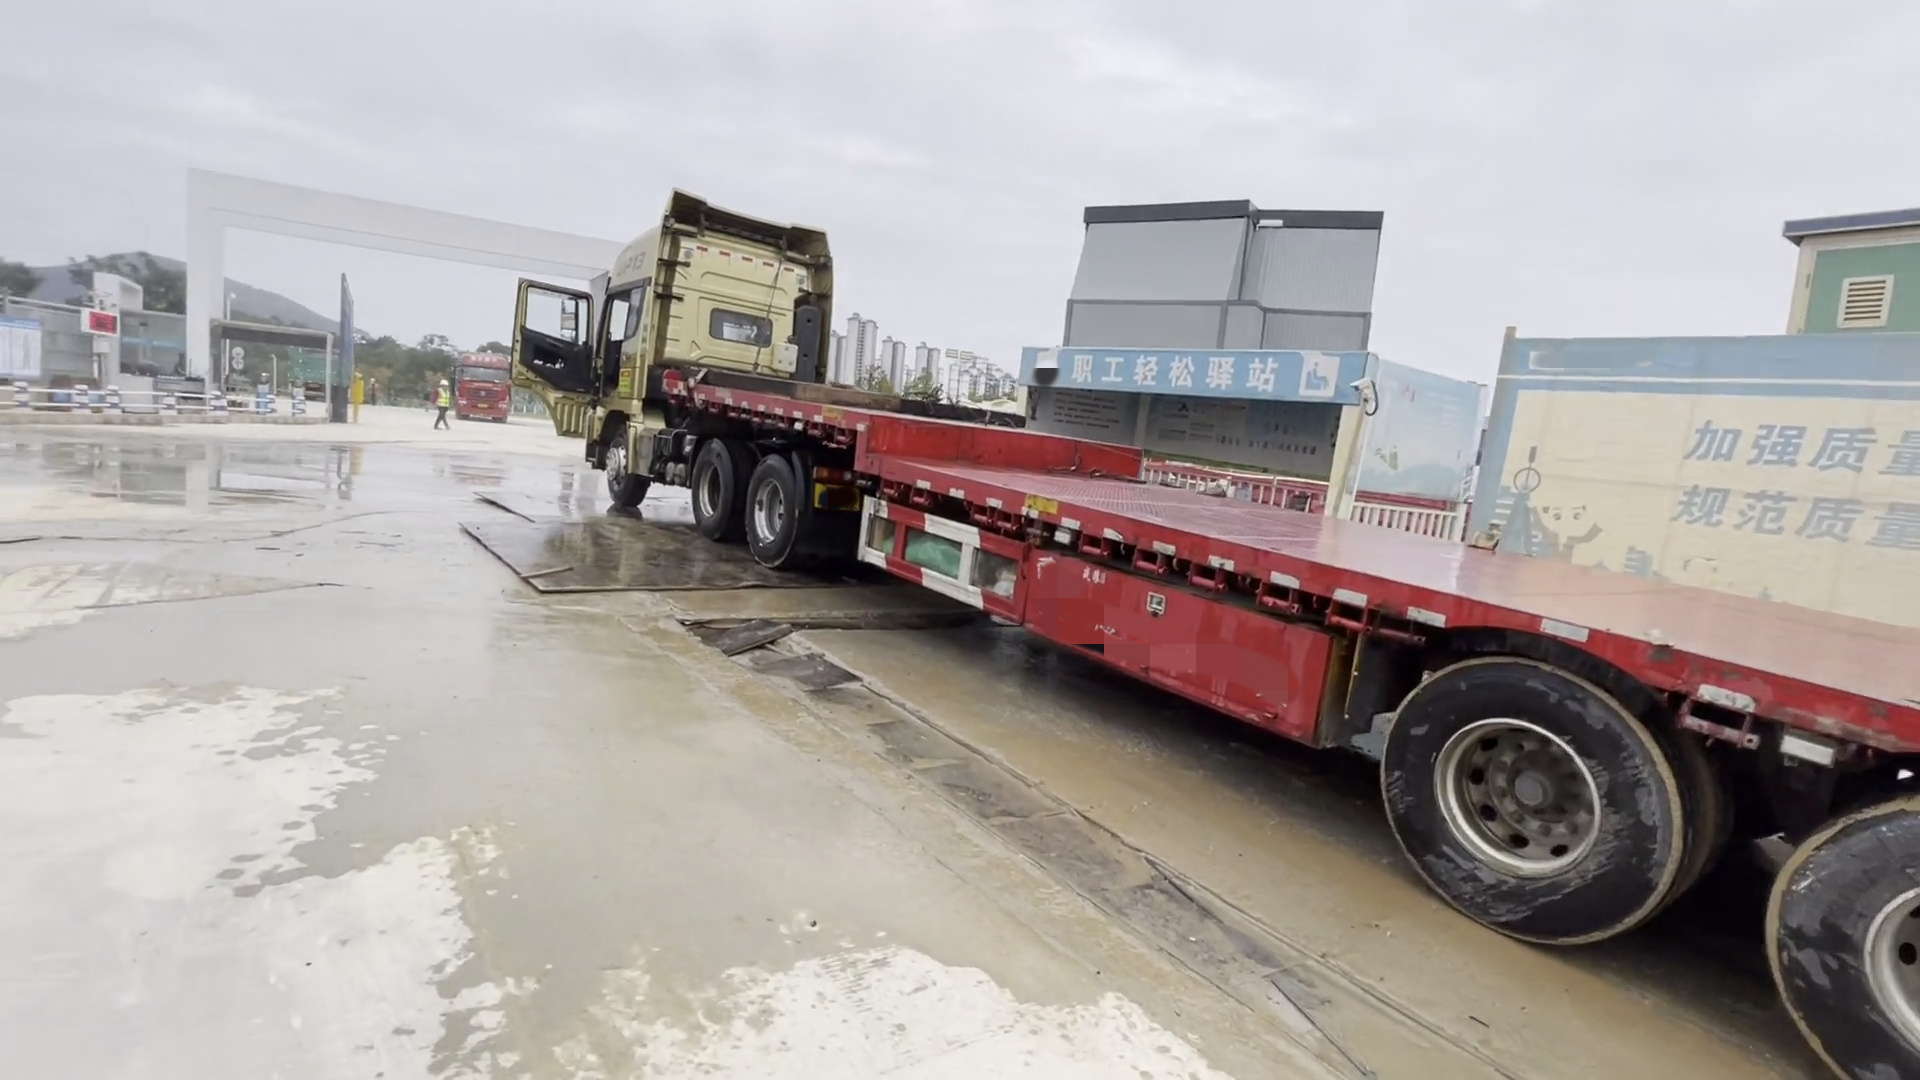helmet: (439, 379, 447, 385)
person: (429, 378, 452, 431), (364, 374, 384, 408)
slogan: (1632, 401, 1920, 544)
vest: (436, 390, 450, 406)
